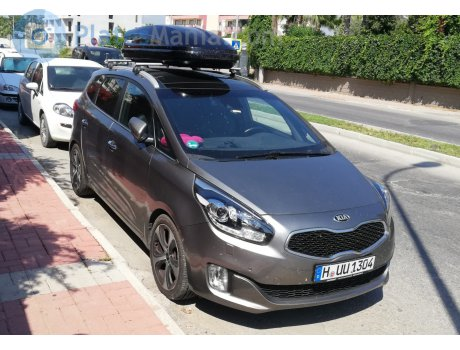License Plates: (317, 261, 373, 272)
